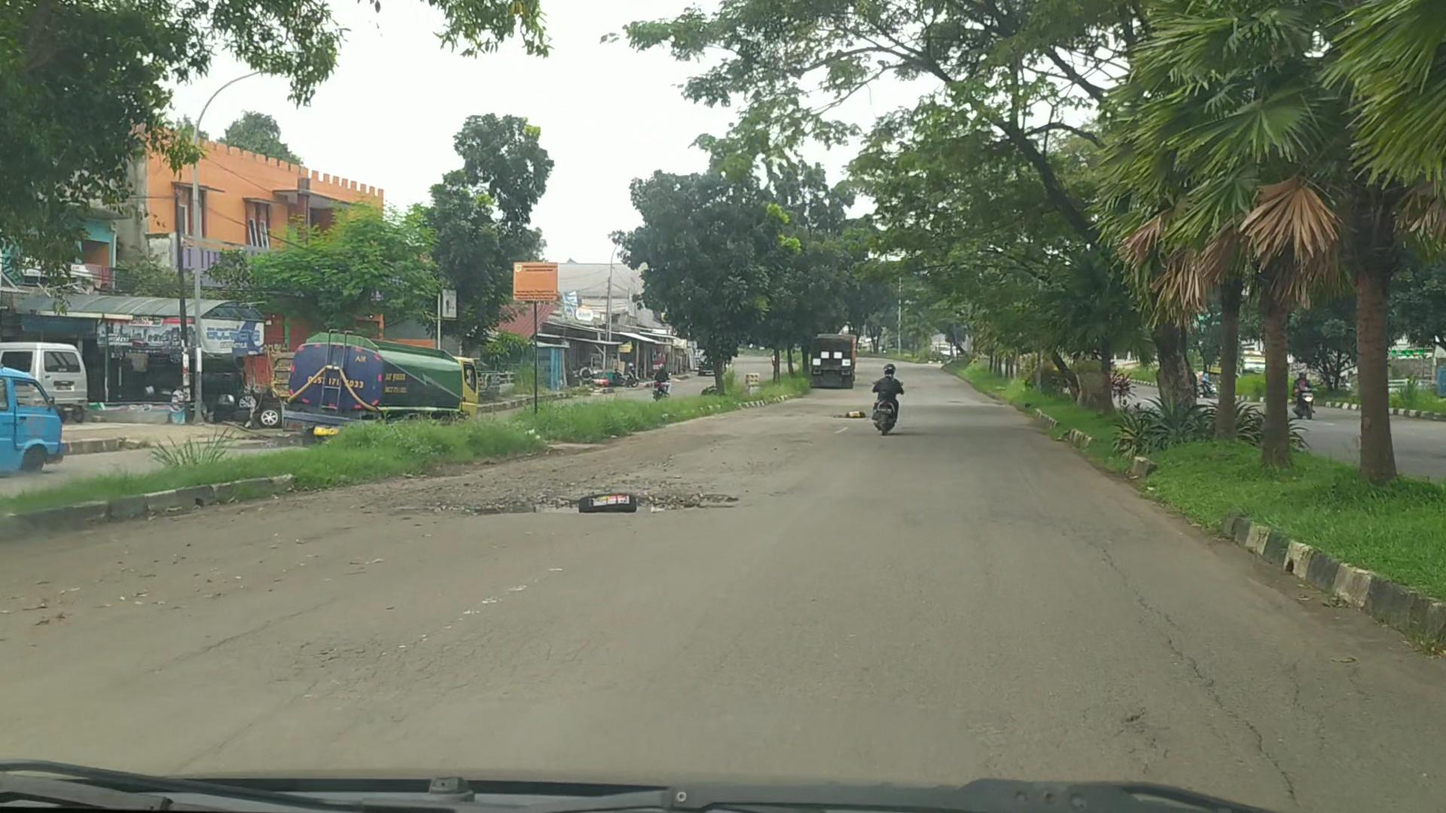pothole: (413, 487, 727, 521)
